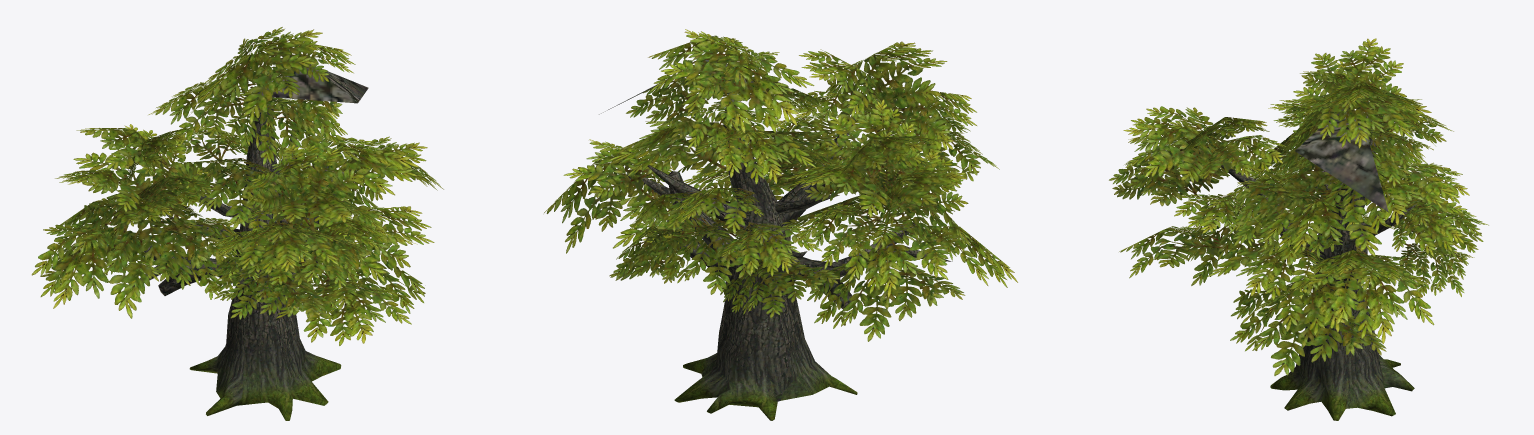
Rendered from cj_luoyang_shu02_54_00_0570out.fbx.
3 views of the same model, side by side, from view 1: azimuth 30°, elevation 25°; view 2: azimuth 150°, elevation 25°; view 3: azimuth 270°, elevation 25° (orthographic). The views are drawn at different scales.
Parts seen in each view (by area): view 1: cj_luoyang_shu02; view 2: cj_luoyang_shu02; view 3: cj_luoyang_shu02.
Boxes of the visible parts, <box> form: cj_luoyang_shu02: <box>31,27,443,420</box>; cj_luoyang_shu02: <box>544,29,1017,420</box>; cj_luoyang_shu02: <box>1109,38,1488,420</box>.
Bounding box in the file's own units: 9.7 × 7.05 × 8.42.
